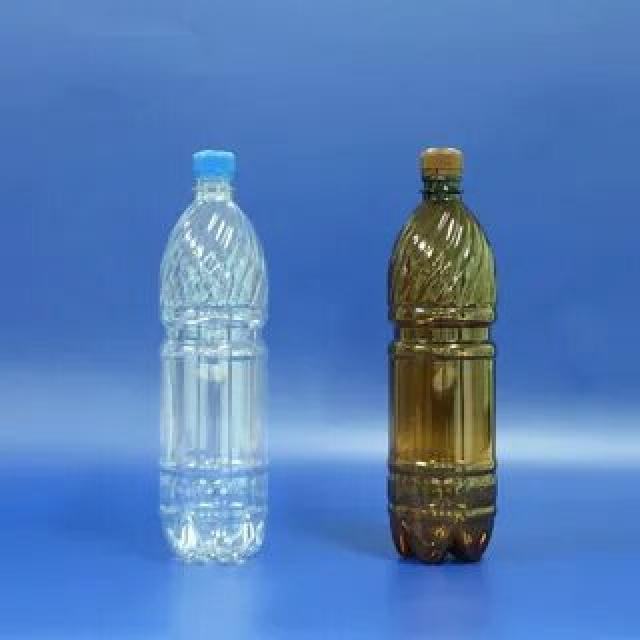brown: (388, 178, 498, 564)
